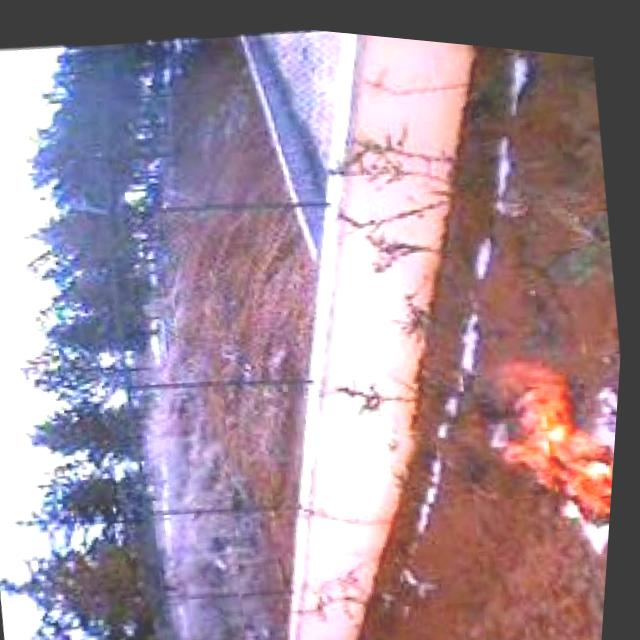helmet: (472, 325, 625, 541)
